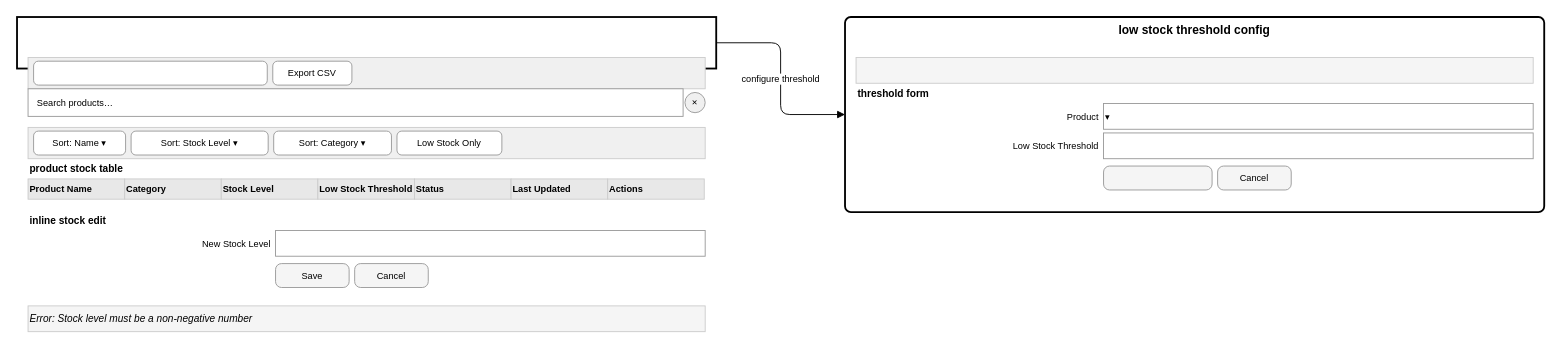
The diagram is 1560 pixels wide and 348 high, and some of its shapes have lost their labels. Here are the shapes that lost their labels. From the top down, the centre of each, then its label:
At [366,42]: "inventory dashboard".
At [150,72]: "Inventory Dashboard — [Store Name]".
At [1194,70]: "Configure Low Stock Threshold".
At [1157,177]: "Save Threshold".
